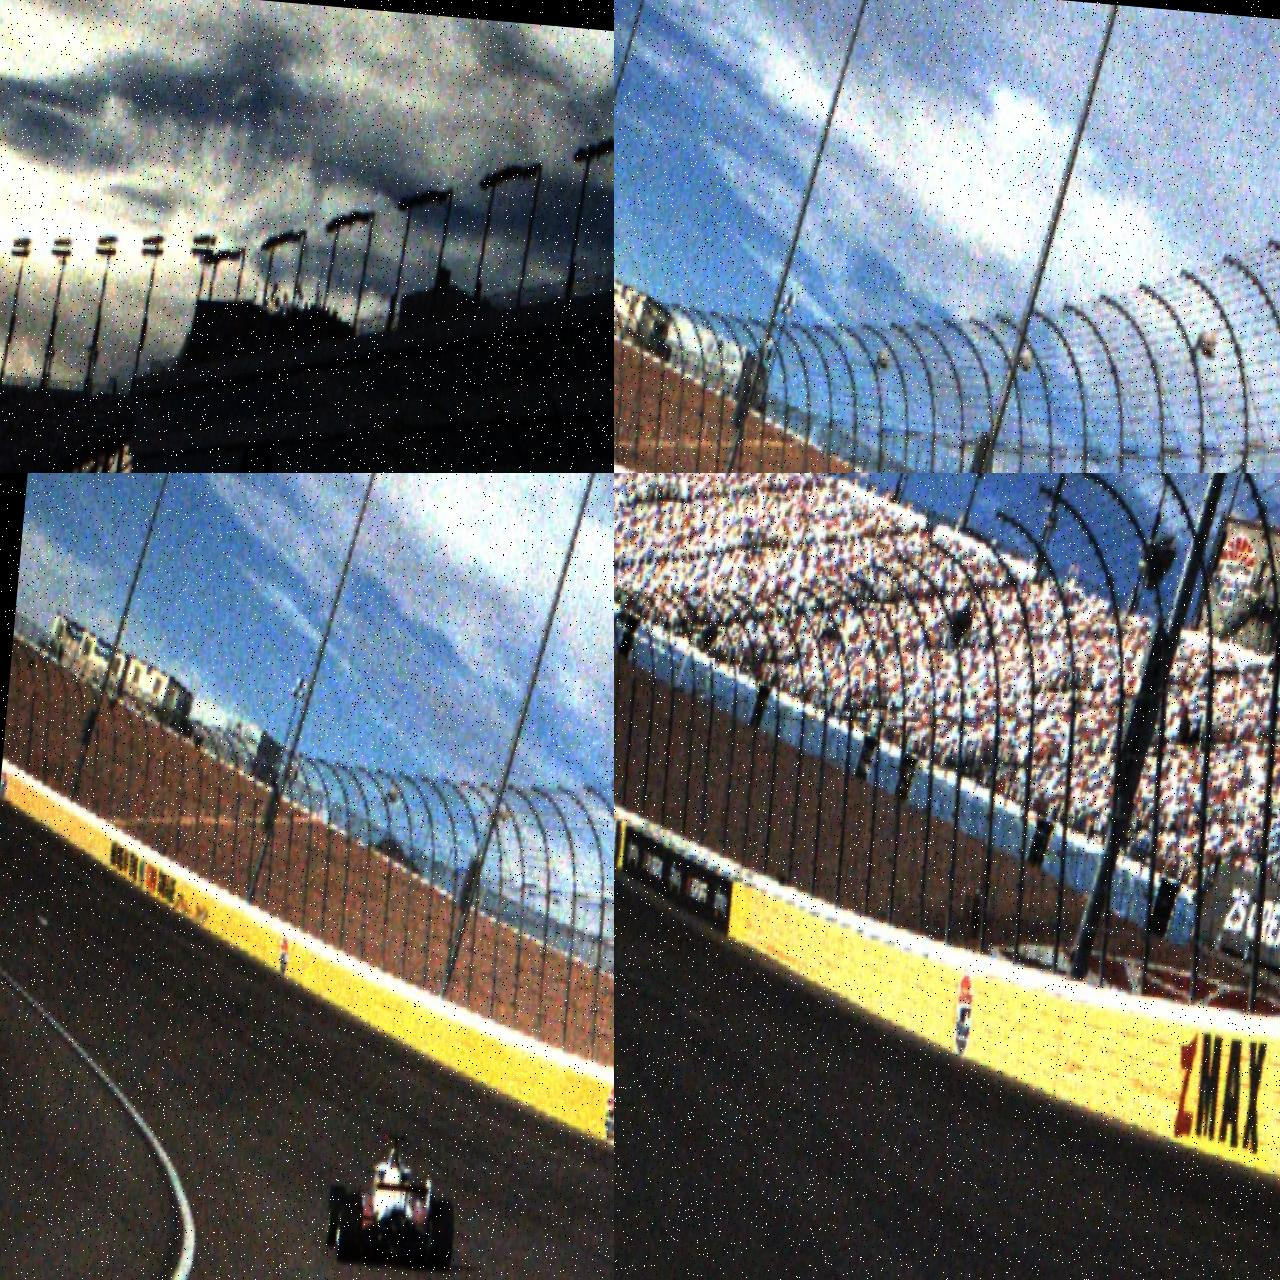AV: (322, 1126, 463, 1274)
Wheel: (334, 1192, 365, 1265), (429, 1198, 457, 1273), (325, 1185, 347, 1248)
